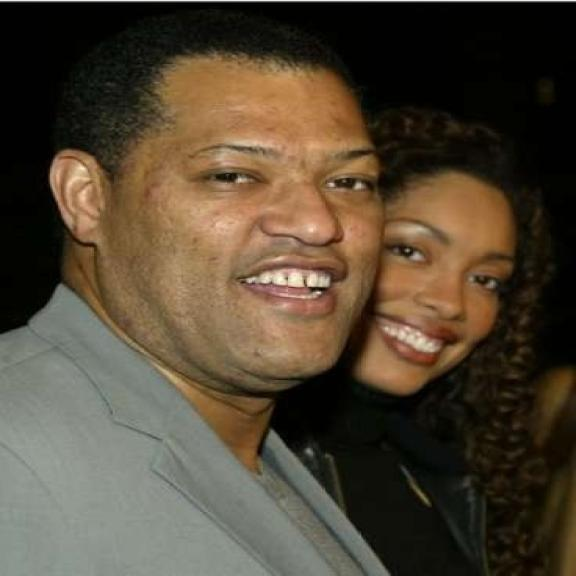face: (40, 24, 384, 391), (360, 104, 528, 414)
